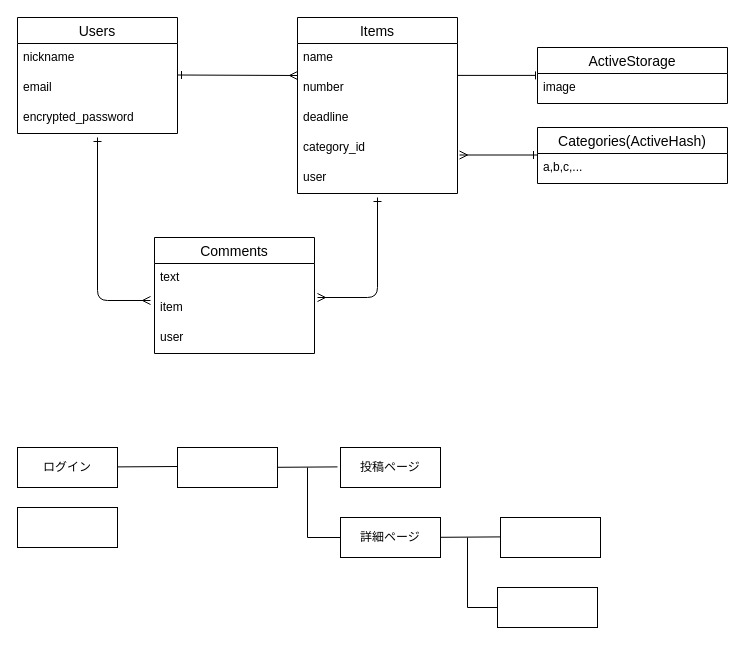
The diagram is 745 pixels wide and 645 high, and some of its shapes have lost their labels. Each missing label, with the centre of its shape:
一覧ページ: point (227, 467)
削除ページ: point (547, 607)
新規登録: point (67, 527)
編集ページ: point (550, 537)
